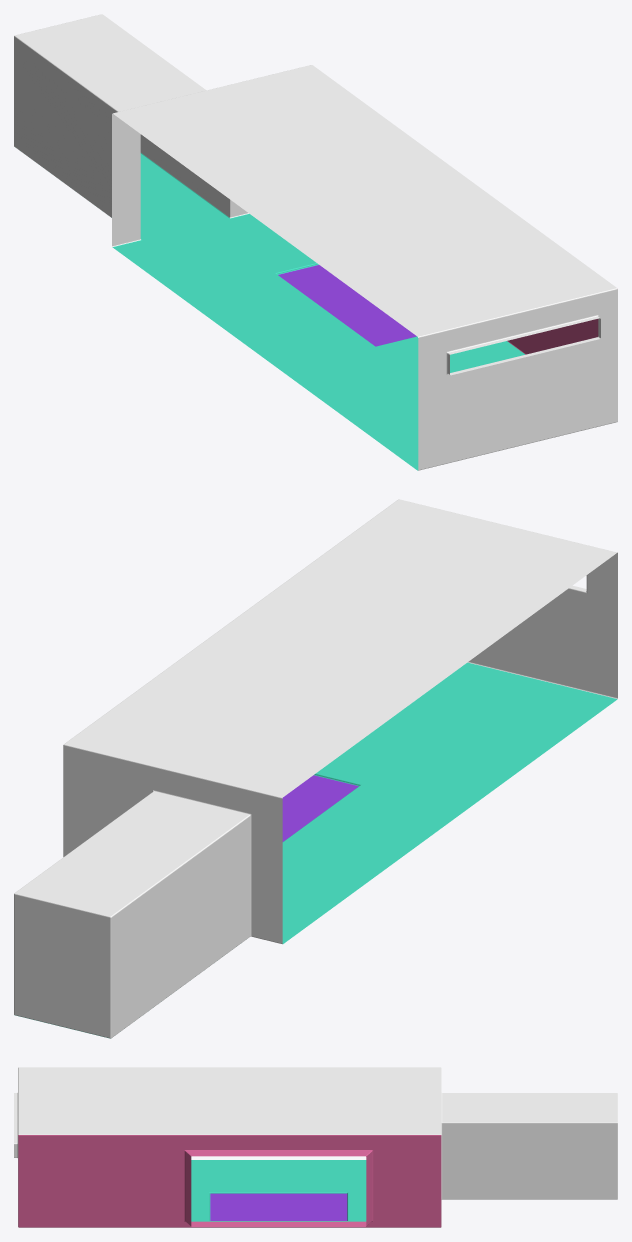
The model's file is Environment_Low.fbx.
3 renders of one model, top to bottom at view 1: azimuth 30°, elevation 25°; view 2: azimuth 150°, elevation 25°; view 3: azimuth 270°, elevation 25°, orthographic. The views are drawn at different scales.
Parts seen in each view (by area): view 1: Cube.001; view 2: Cube.001; view 3: Cube.001.
Boxes of the visible parts, left/top/right/bottom form: Cube.001: left=14, top=14, right=617, bottom=470; Cube.001: left=14, top=499, right=617, bottom=1038; Cube.001: left=14, top=1067, right=617, bottom=1227.
Bounding box in the file's own units: 339 × 203 × 1181.
